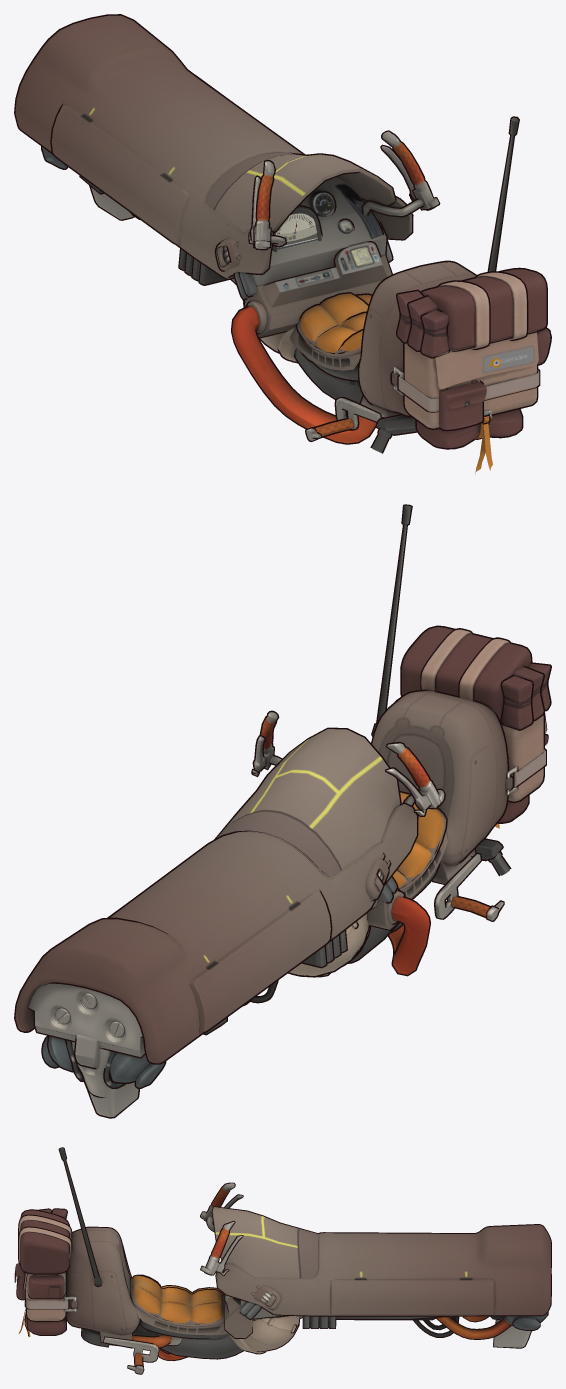
The model's file is speeder_bike1K.glb.
The picture shows the model from 3 angles, top to bottom: view 1: azimuth 30°, elevation 25°; view 2: azimuth 150°, elevation 25°; view 3: azimuth 270°, elevation 25°; orthographic projection. The views are drawn at different scales.
Parts seen in each view (by area): view 1: Object_3, Object_2; view 2: Object_3, Object_2; view 3: Object_3, Object_2.
Boxes of the visible parts, bbox=[...] form: Object_3: bbox=[15, 15, 550, 473]; Object_2: bbox=[14, 14, 551, 453]; Object_3: bbox=[15, 505, 550, 1117]; Object_2: bbox=[14, 504, 551, 1118]; Object_3: bbox=[14, 1148, 550, 1373]; Object_2: bbox=[15, 1147, 551, 1374].
Size of the model in its own units: 1.93 by 3.63 by 7.4.
2 materials, 1 textured.
